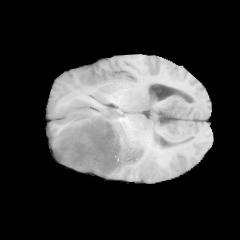glioma: (54, 111, 122, 176)
